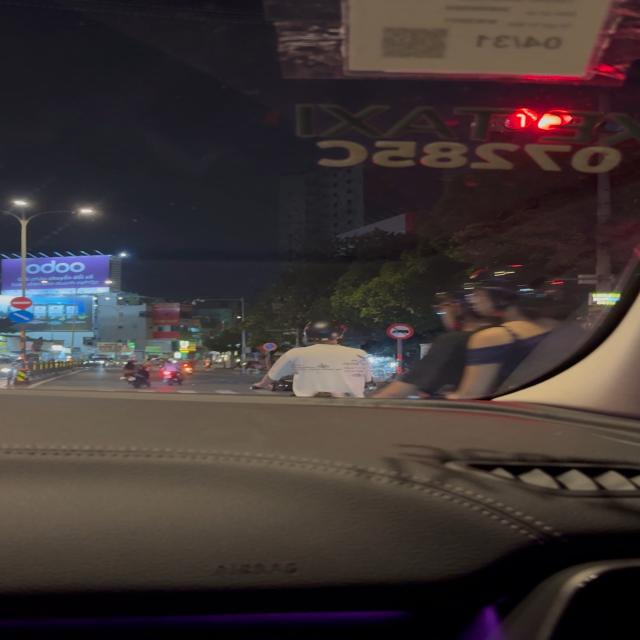Bien bao cam do xe: (261, 342, 279, 352)
Bien bao cam xe so-mi ro-mooc: (384, 322, 415, 340)
